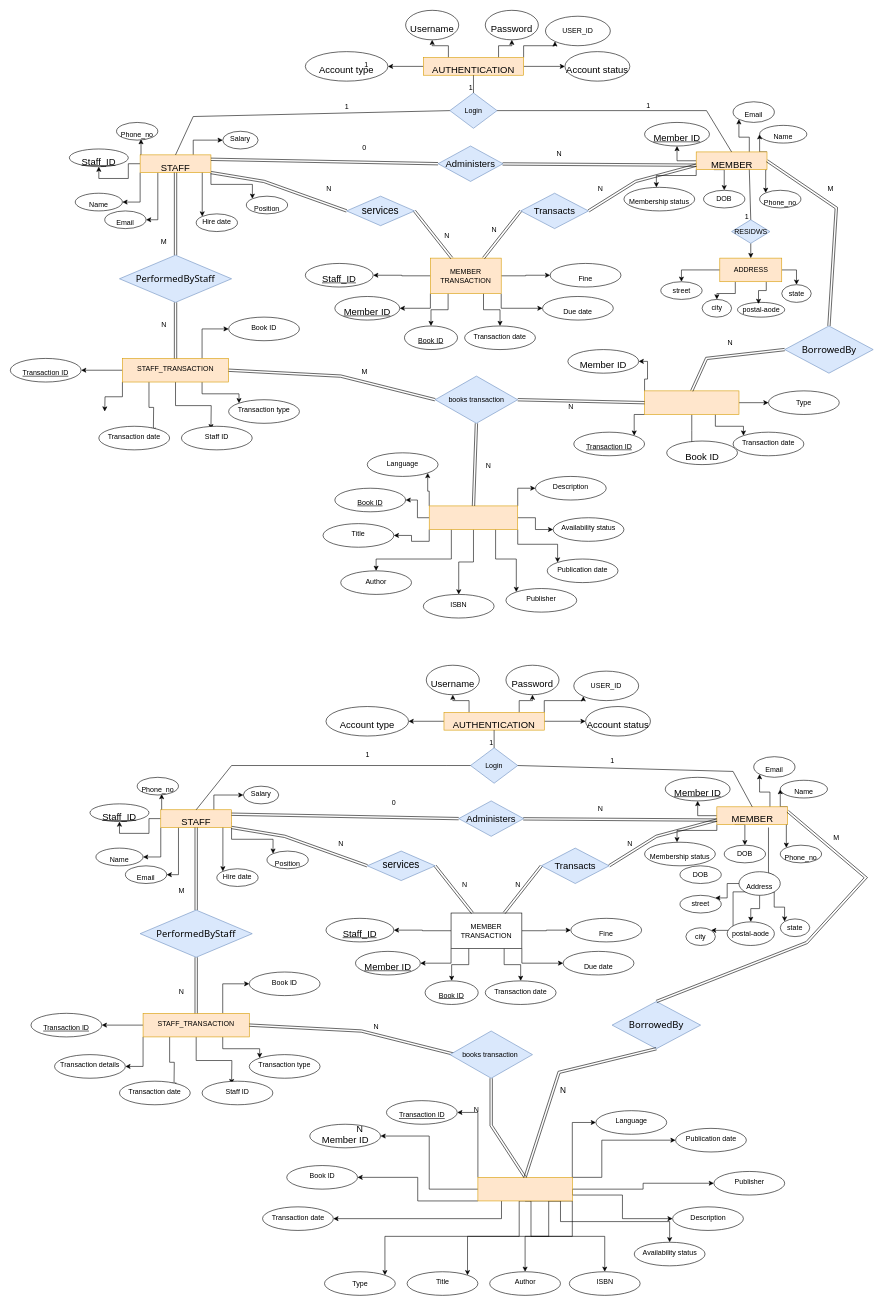
This 884x1313 diagram has some shape labels left out. The shapes that lost their labels are listed below. From the top down, each one's centre as x and y in pixels, then its label:
At (x=691, y=402): "TRANSACTION_RECORD".
At (x=473, y=517): "BOOKS".
At (x=524, y=1189): "BOOK TRANSACTION".
